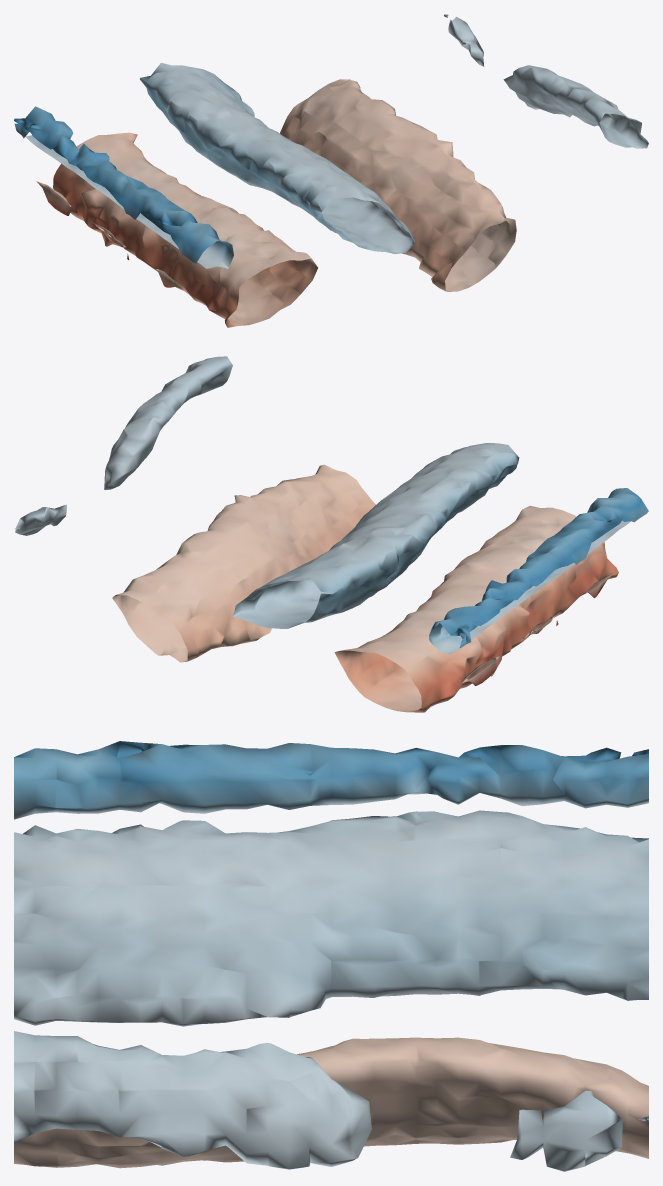
The picture shows the model from 3 angles, top to bottom: view 1: azimuth 30°, elevation 25°; view 2: azimuth 150°, elevation 25°; view 3: azimuth 270°, elevation 25°; orthographic projection. The views are drawn at different scales.
Size of the model in its own units: 3.61 by 1.09 by 2.5.
